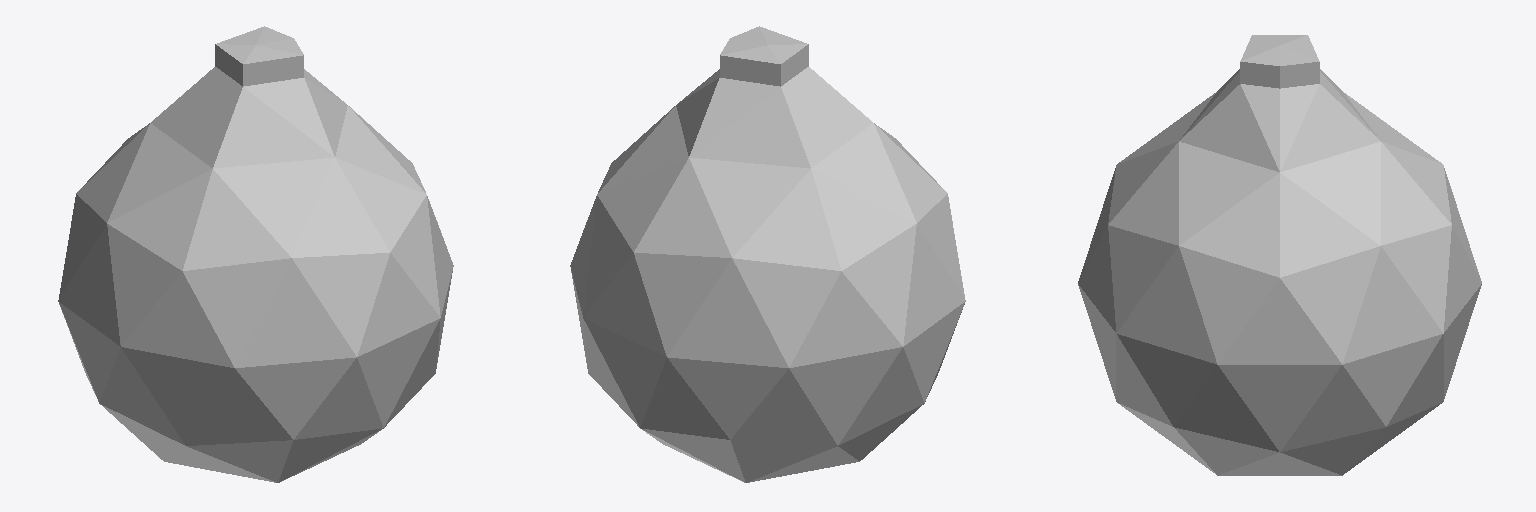
File: posion.obj
3 views of the same model, side by side, from view 1: azimuth 30°, elevation 25°; view 2: azimuth 150°, elevation 25°; view 3: azimuth 270°, elevation 25° (orthographic).
Visible parts, largest first — view 1: ICO球; view 2: ICO球; view 3: ICO球.
Part boxes in pixels (x1,y1,x2,y2): ICO球: (58,26,453,482); ICO球: (570,26,965,482); ICO球: (1078,35,1481,475).
Size of the model in its own units: 1.9 by 2.3 by 2.